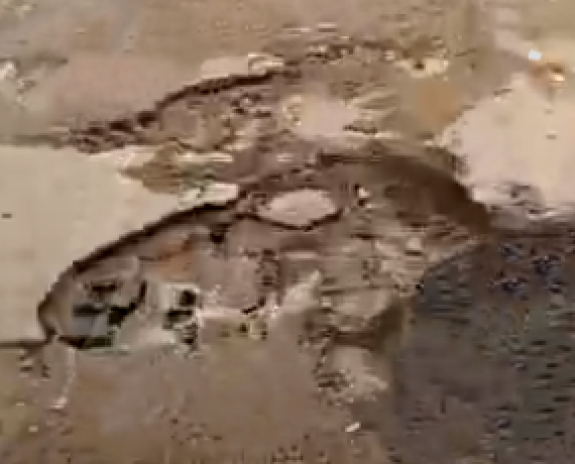Berlubang: (30, 160, 556, 351), (49, 65, 451, 175)
